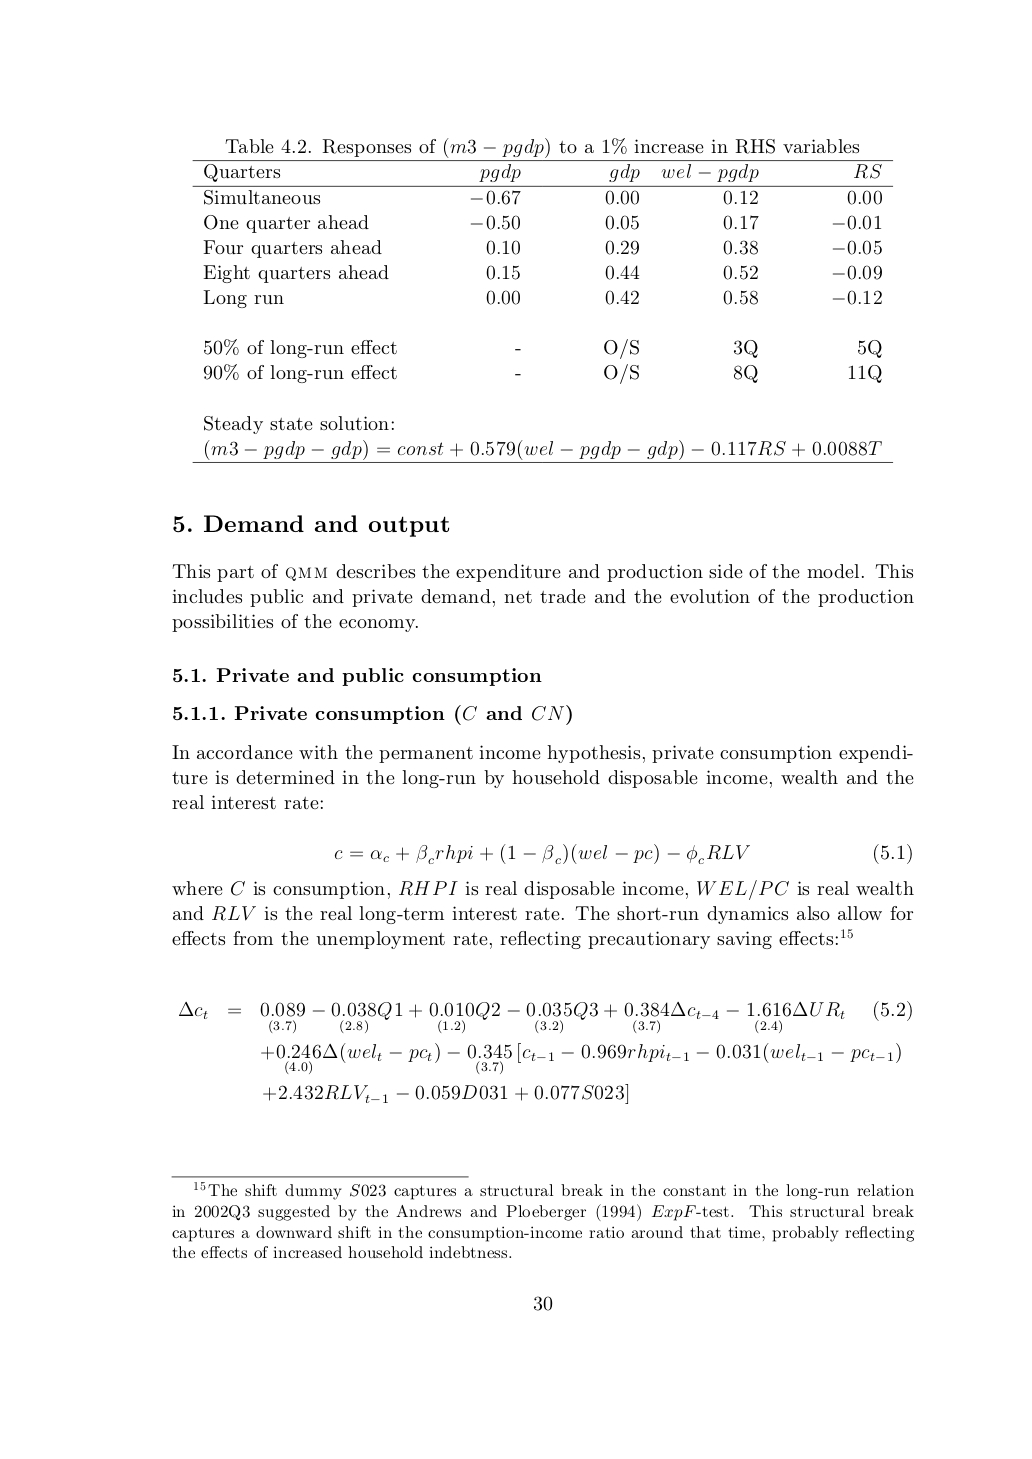Table: (192, 160, 894, 462)
formula: (179, 1000, 911, 1034), (261, 1042, 900, 1075), (334, 843, 911, 864), (262, 1083, 628, 1104)
